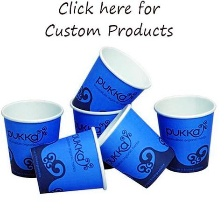paper_cup: (90, 101, 177, 193), (23, 123, 115, 198), (69, 44, 158, 118), (148, 88, 220, 177), (0, 98, 66, 181), (64, 96, 132, 173)
